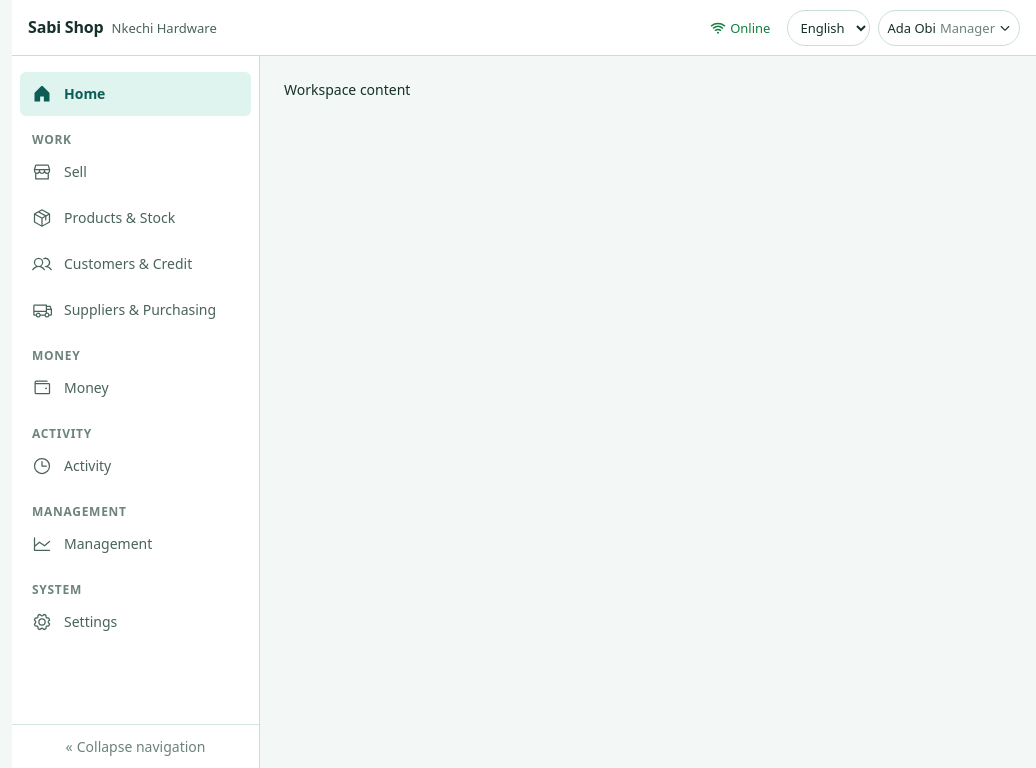
Test: AppShell › toggles rail collapse state and updates accessible labels
Click the button "« Collapse navigation" at (136, 746), box [12,724,259,767]
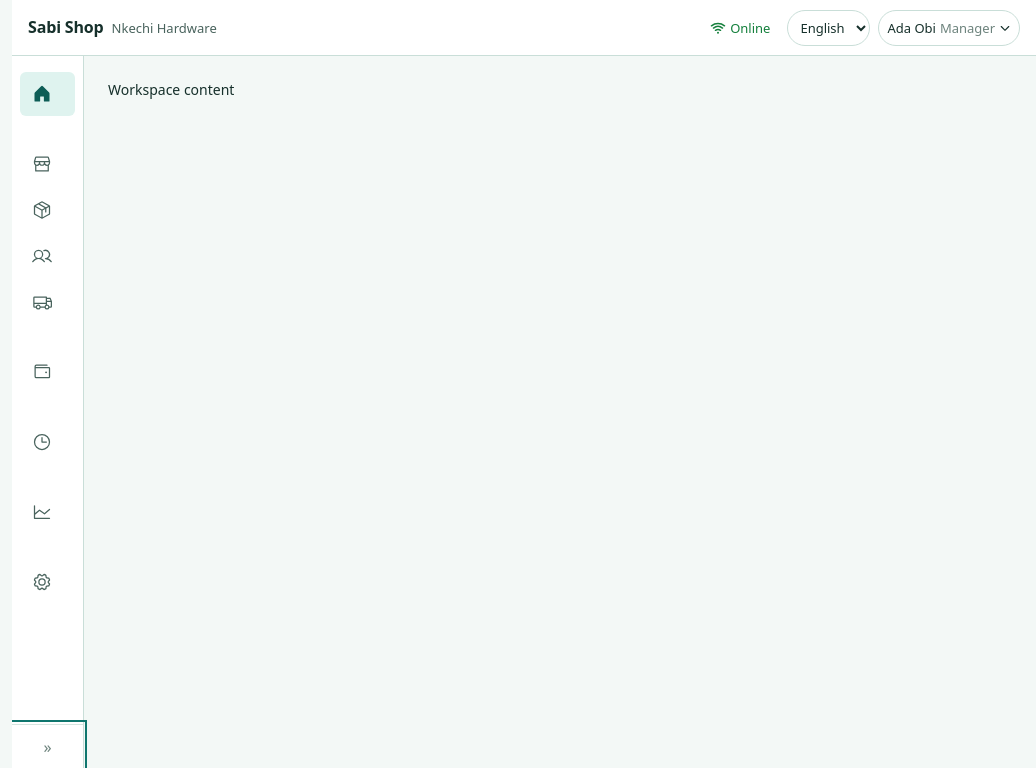
Expected: the button named "Expand navigation" is collapsed
Click the button named "Expand navigation" at (48, 746), box [12,724,83,767]
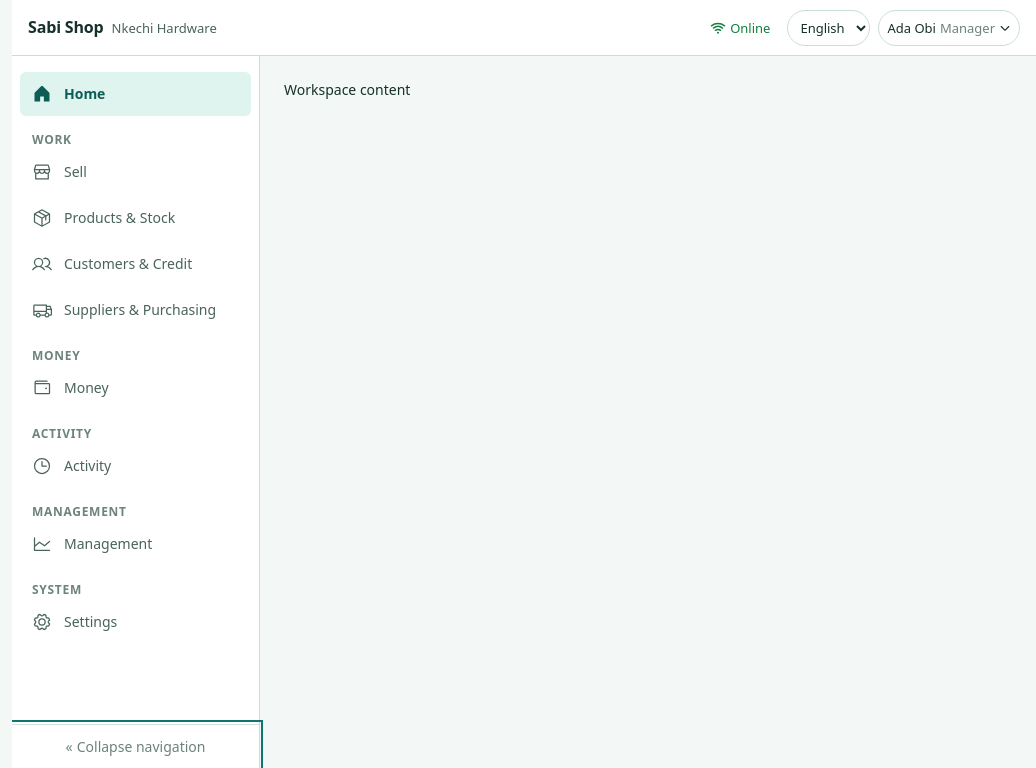
Expected: the button "« Collapse navigation" is expanded, [12,724,259,767]
